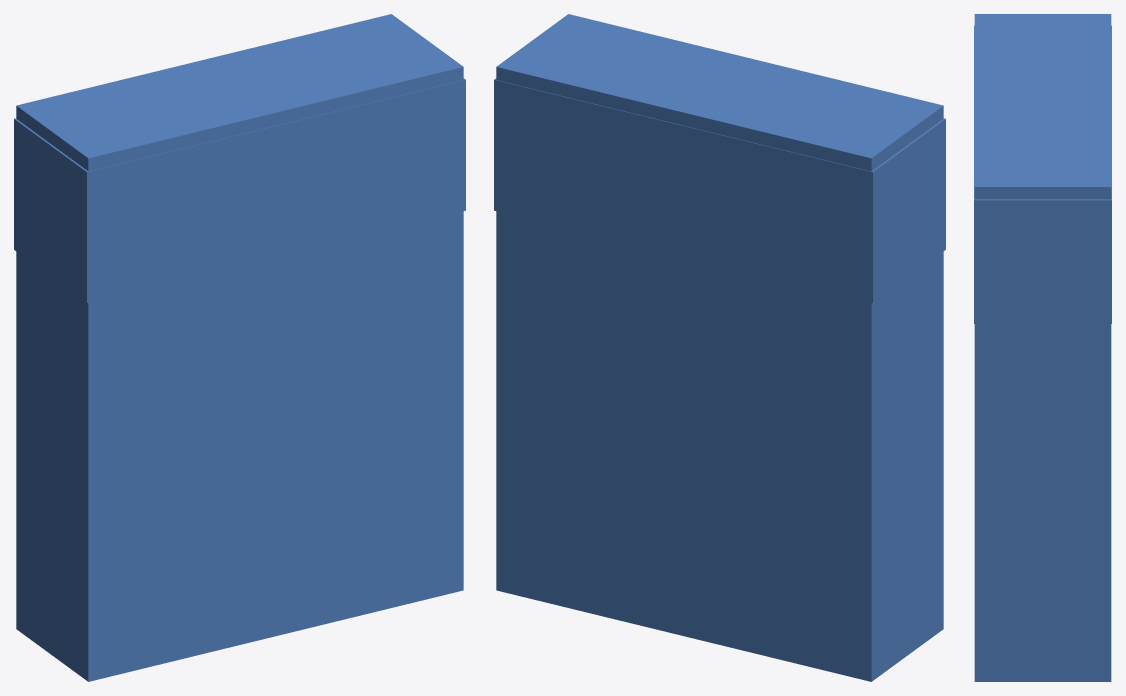
File: g_pasta_box.glb
3 views of the same model, side by side, from view 1: azimuth 30°, elevation 25°; view 2: azimuth 150°, elevation 25°; view 3: azimuth 270°, elevation 25° (orthographic). The views are drawn at different scales.
Parts seen in each view (by area): view 1: g_pasta_box; view 2: g_pasta_box; view 3: g_pasta_box.
Part boxes in pixels (left/top/right/bottom): g_pasta_box: left=14, top=14, right=465, bottom=681; g_pasta_box: left=494, top=14, right=945, bottom=681; g_pasta_box: left=974, top=14, right=1111, bottom=681.
Size of the model in its own units: 0.1818 by 0.24 by 0.0606.
